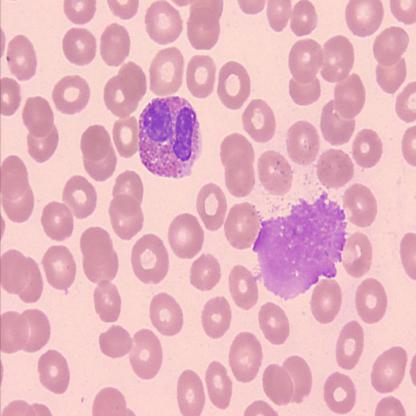Eosinophil: (139, 96, 200, 180)
